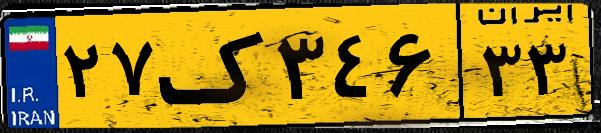2: (57, 26, 110, 100)
3: (270, 28, 330, 110), (475, 38, 525, 113), (525, 38, 570, 115)
4: (330, 28, 385, 110)
6: (385, 28, 445, 110)
7: (110, 28, 158, 98)
ک: (158, 12, 270, 120)
